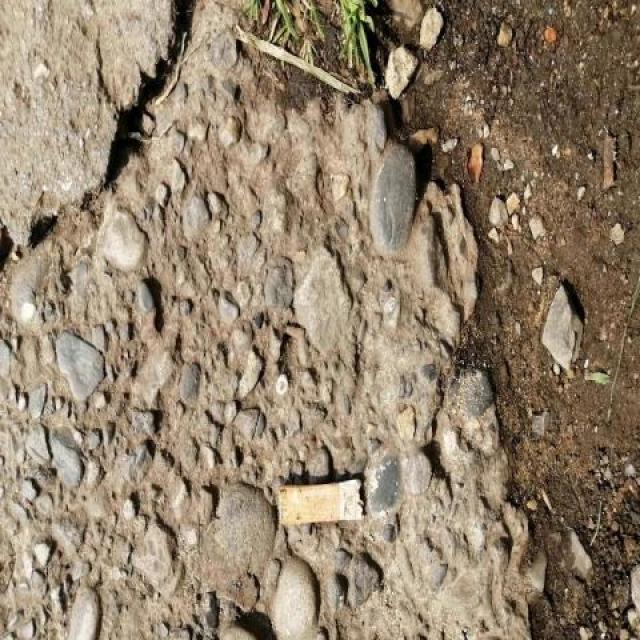non-organic waste: (273, 471, 371, 530)
